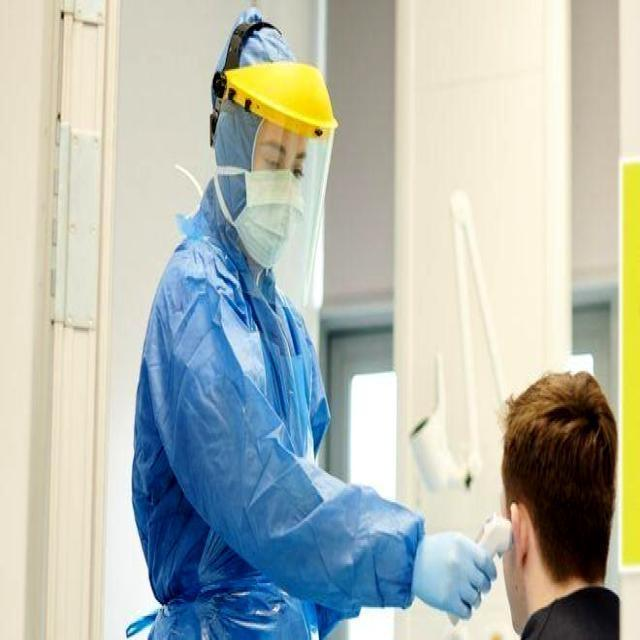apron: (413, 524, 501, 626)
mask: (251, 174, 305, 261)
no_gloves: (504, 403, 612, 528)
